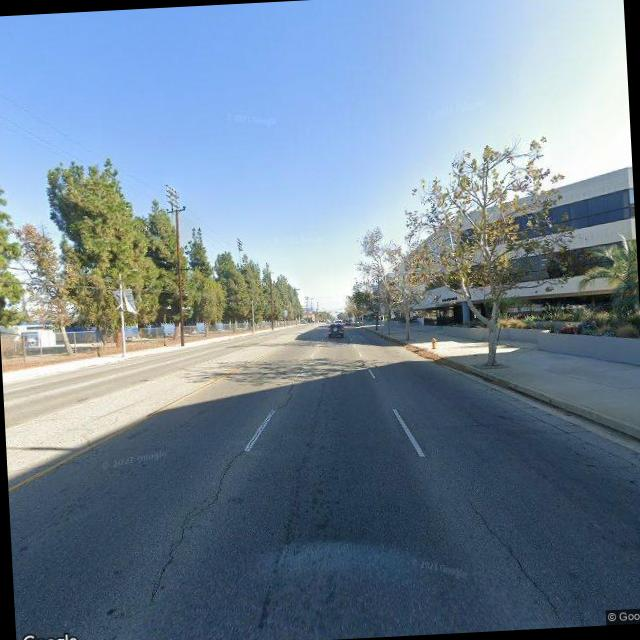crack: (134, 445, 252, 605), (462, 490, 562, 621), (555, 418, 640, 511)
